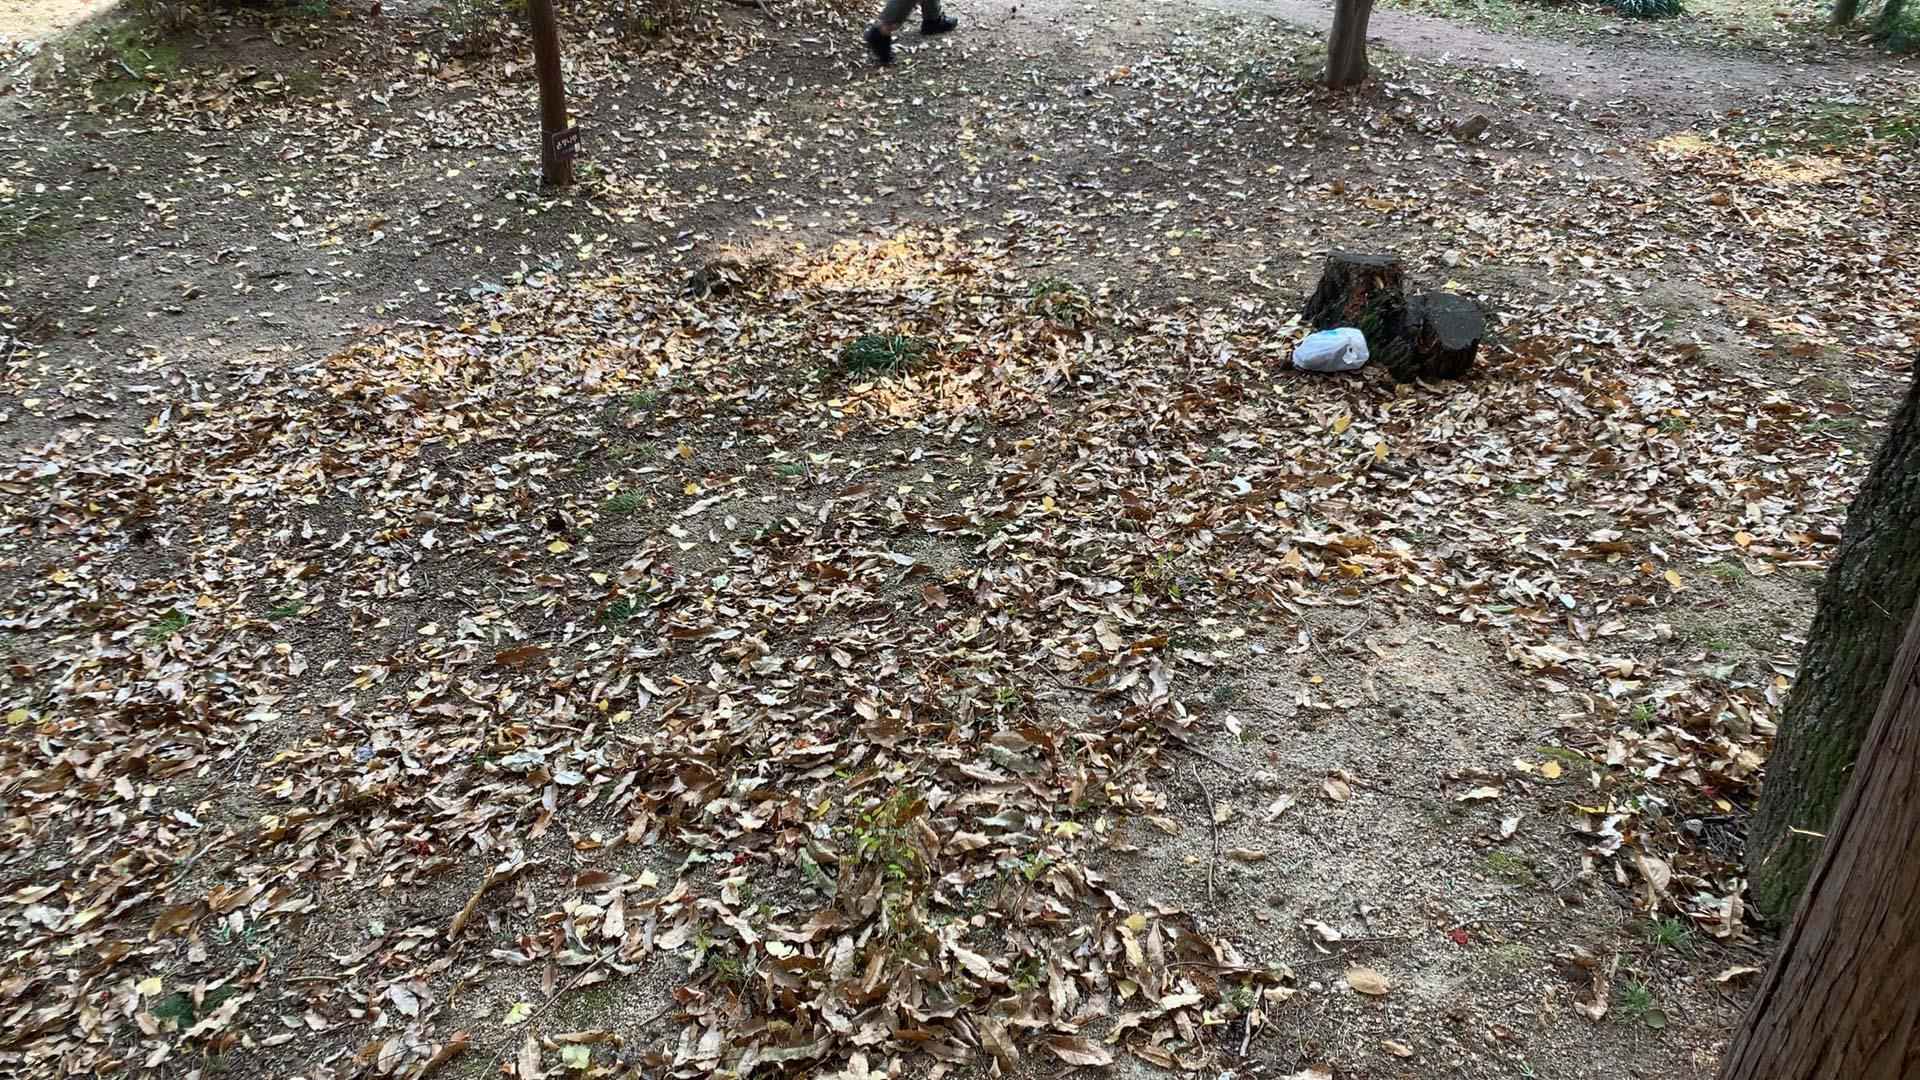white_bag: (1286, 323, 1371, 376)
